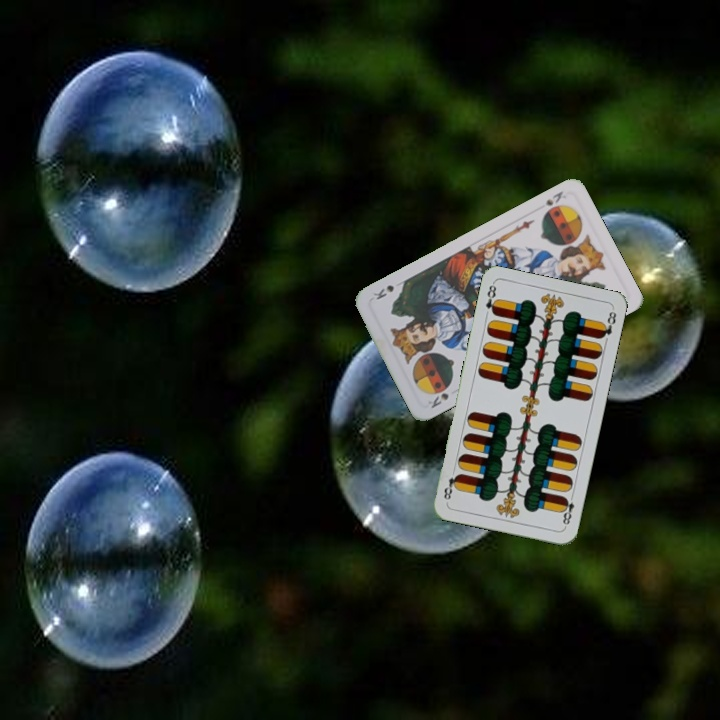E8: (558, 490, 577, 530), (481, 280, 500, 318)
SK: (542, 187, 569, 208), (427, 389, 451, 411)
